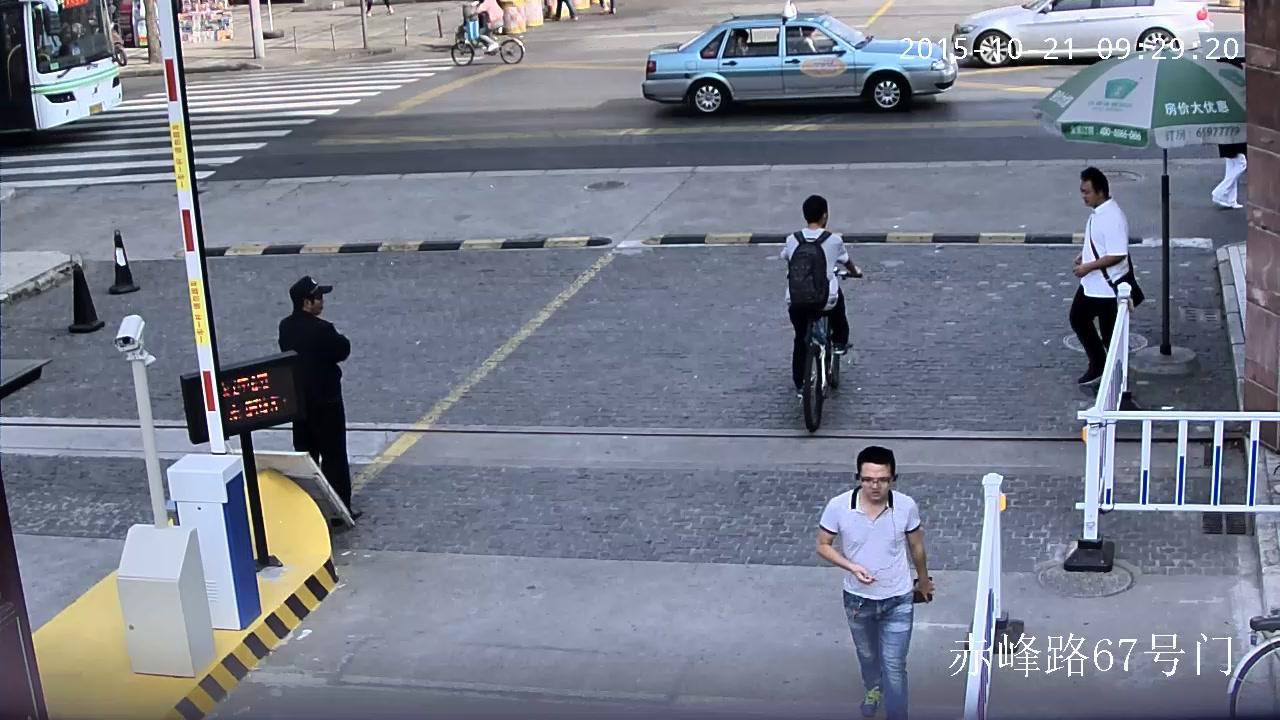person: (813, 445, 935, 720), (278, 276, 363, 523), (778, 193, 863, 434), (1067, 165, 1145, 388), (779, 194, 863, 401), (449, 0, 524, 66), (1209, 144, 1250, 211), (471, 0, 504, 60), (795, 25, 819, 56), (552, 0, 579, 21)
